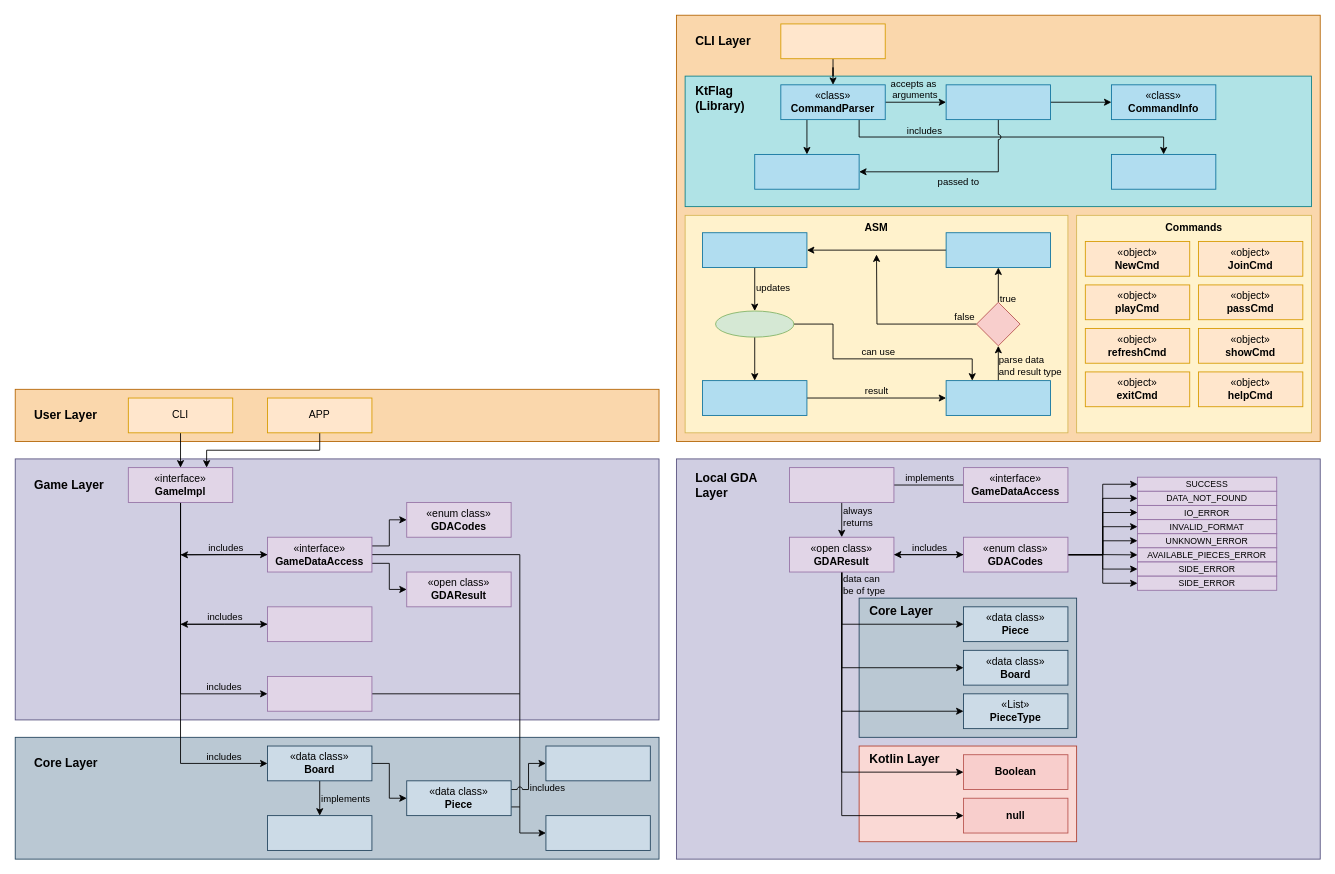
Image size: 1335x874. Some labels were removed from this diagram. Here are the shapes that lost their labels. From the top down, the centre of each, then its label:
At (832,41): "«object» CLI".
At (998,102): "«open class» CommandImpl".
At (806,171): "«class» CommandRegister".
At (1163,171): "«class» CommandResult".
At (754,250): "Read user input".
At (998,250): "Apply changes".
At (754,323): "input".
At (998,323): "canApply".
At (754,397): "Parse to Result".
At (998,397): "Parse Result".
At (841,484): "«class» LocalGDA".
At (319,624): "«interface» GameLogicImpl".
At (319,693): "«data class» Player".
At (597,763): "«data class» Coordinate".
At (319,832): "«inteface» Iterable".
At (597,832): "«enum class» PieceType".
